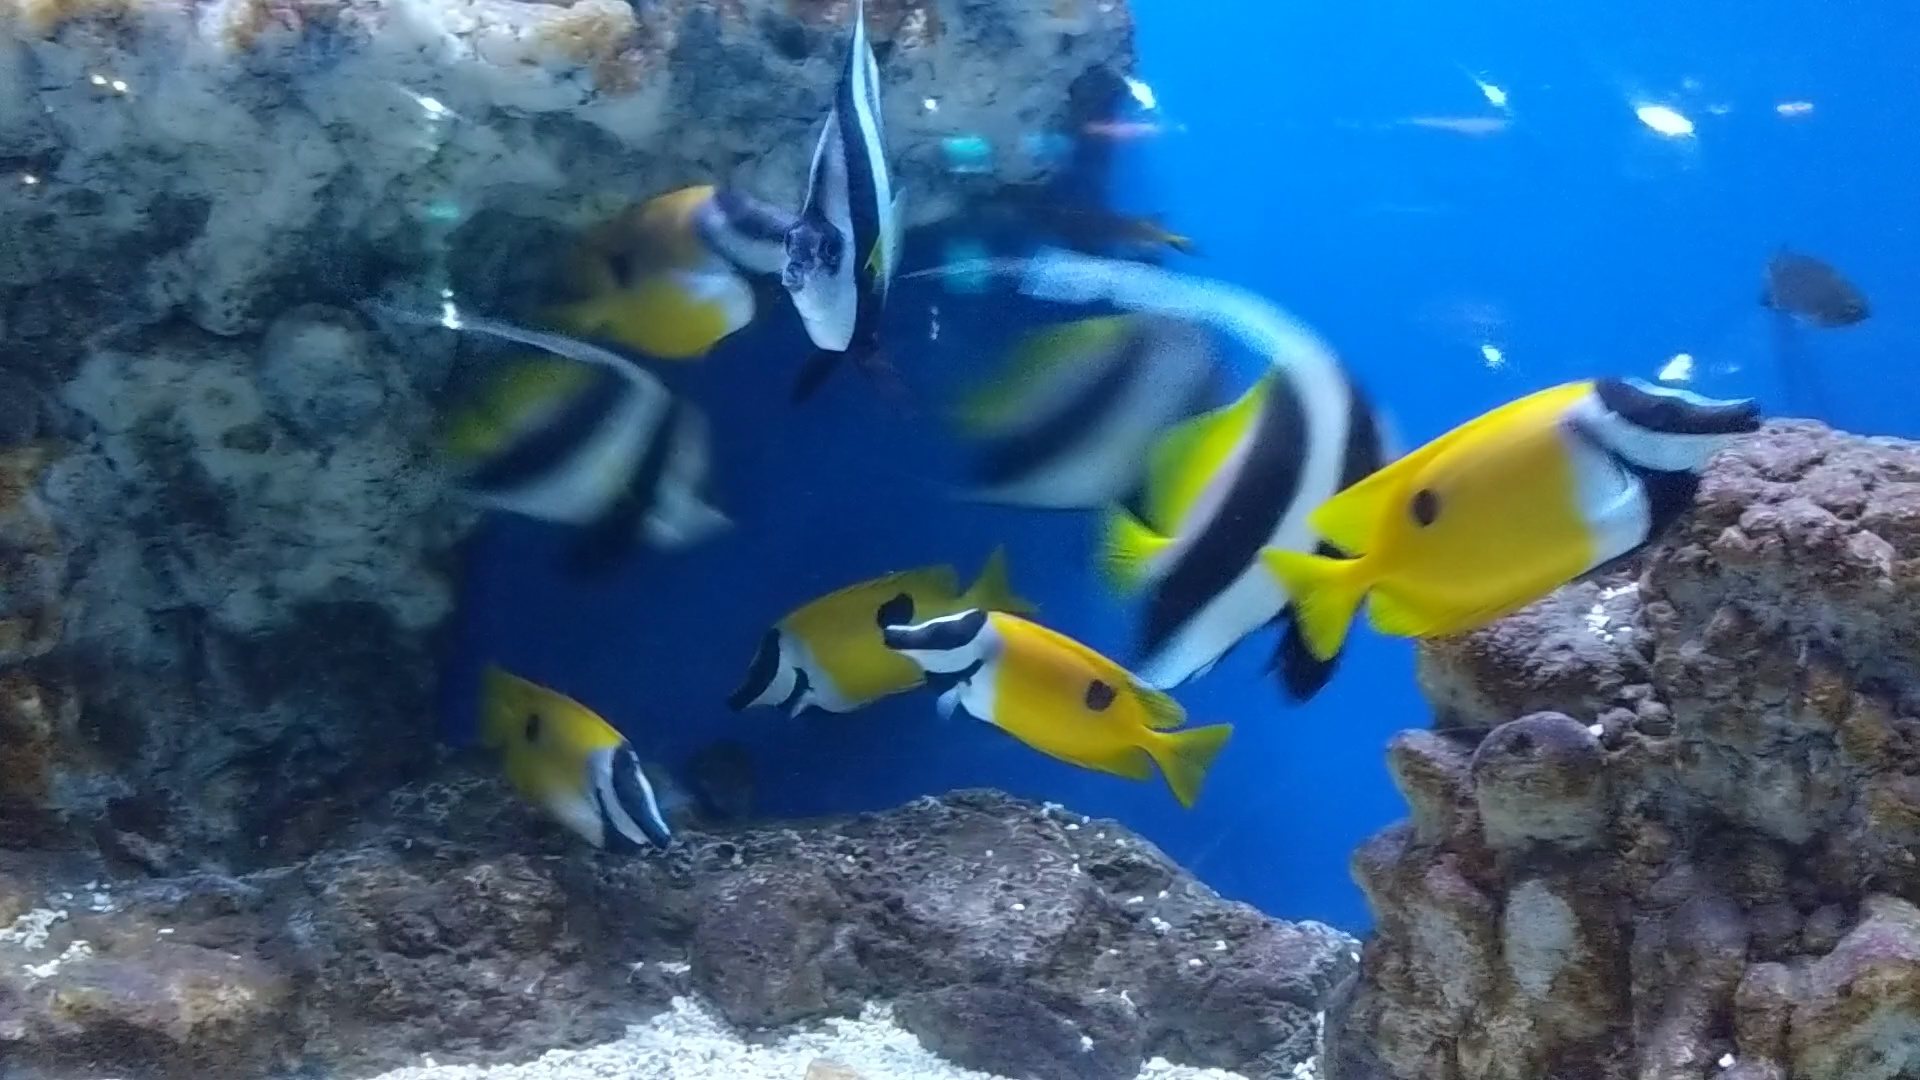moorfish: (990, 189, 1385, 700), (375, 290, 738, 549), (920, 255, 1203, 522), (796, 7, 901, 382)
rabbitfish: (1315, 378, 1756, 684), (866, 615, 1222, 812), (502, 185, 777, 340), (460, 642, 653, 858), (715, 580, 998, 727)
